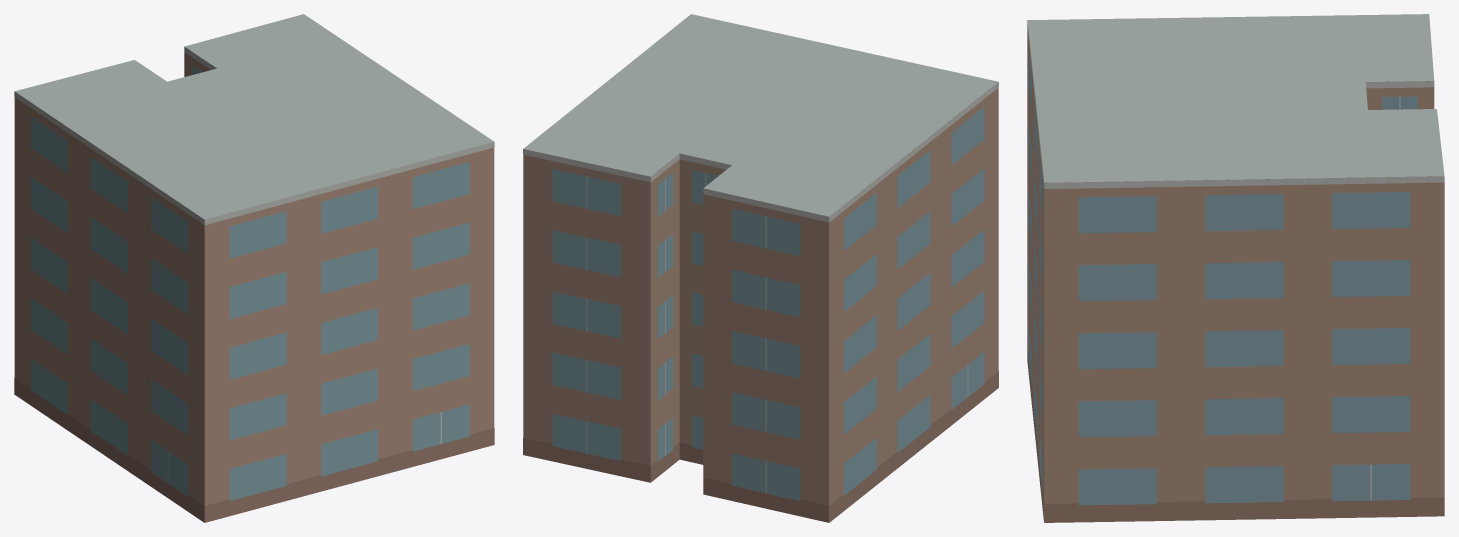
The model's file is survey-upis-32833897.glb.
The picture shows the model from 3 angles, left to right: view 1: azimuth 30°, elevation 25°; view 2: azimuth 150°, elevation 25°; view 3: azimuth 270°, elevation 25°; orthographic projection. The views are drawn at different scales.
Visible parts, largest first — view 1: survey-upis-32833897.tmp; view 2: survey-upis-32833897.tmp; view 3: survey-upis-32833897.tmp.
Boxes of the visible parts, x1,y1,x2,y2 form: survey-upis-32833897.tmp: (14,14,494,522); survey-upis-32833897.tmp: (523,14,998,522); survey-upis-32833897.tmp: (1027,14,1444,522).
Bounding box in the file's own units: 13.95 × 13.1 × 14.57.
